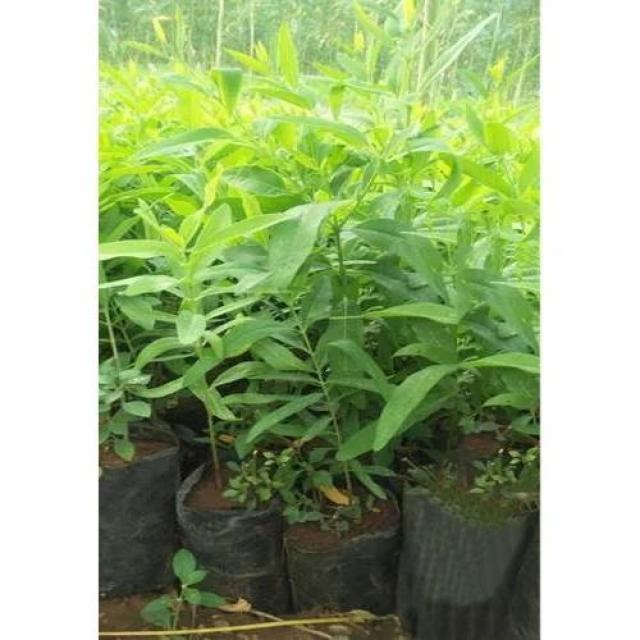Medicinal-Sandalwood: (108, 78, 539, 478)
